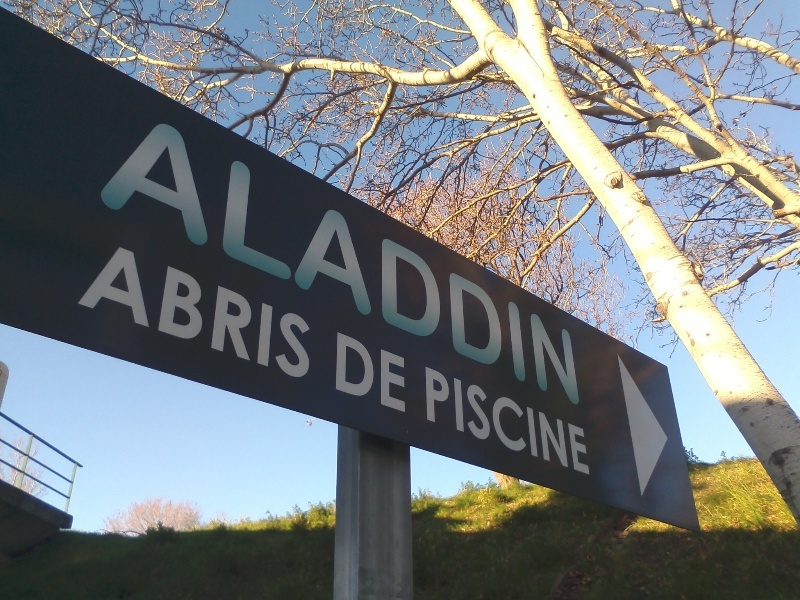text: (161, 119, 176, 408), (177, 119, 192, 408), (193, 119, 208, 408), (209, 119, 224, 408), (225, 119, 240, 408), (241, 119, 256, 408), (257, 119, 272, 408), (273, 119, 288, 408), (289, 119, 304, 408), (305, 119, 320, 408), (321, 119, 336, 408), (337, 119, 352, 408), (353, 119, 368, 408), (369, 119, 384, 408), (385, 119, 400, 408), (401, 119, 416, 408), (417, 119, 432, 408), (433, 119, 448, 408), (449, 119, 464, 408), (465, 119, 480, 408), (481, 119, 496, 408), (497, 119, 512, 408), (513, 119, 528, 408), (529, 119, 544, 408), (545, 119, 560, 408), (561, 119, 576, 408), (129, 245, 144, 383), (145, 245, 160, 383), (161, 245, 176, 383), (177, 245, 192, 383), (193, 245, 208, 383), (209, 245, 224, 383), (225, 245, 240, 383), (241, 245, 256, 383), (257, 245, 272, 383), (273, 245, 288, 383), (289, 245, 304, 383), (433, 365, 448, 476), (449, 365, 464, 476), (465, 365, 480, 476), (481, 365, 496, 476), (497, 365, 512, 476), (513, 365, 528, 476), (529, 365, 544, 476), (545, 365, 560, 476), (561, 365, 576, 476), (577, 365, 591, 476), (118, 245, 128, 383), (337, 331, 352, 415), (353, 331, 368, 415), (369, 331, 384, 415), (385, 331, 400, 415), (577, 119, 581, 408), (424, 365, 432, 476), (305, 245, 310, 383), (401, 331, 407, 415), (159, 119, 160, 408)
